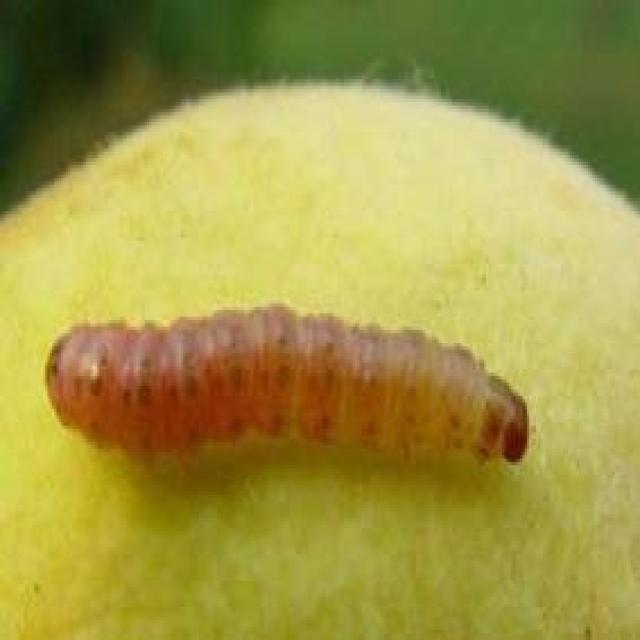peach borer: (36, 300, 540, 468)
